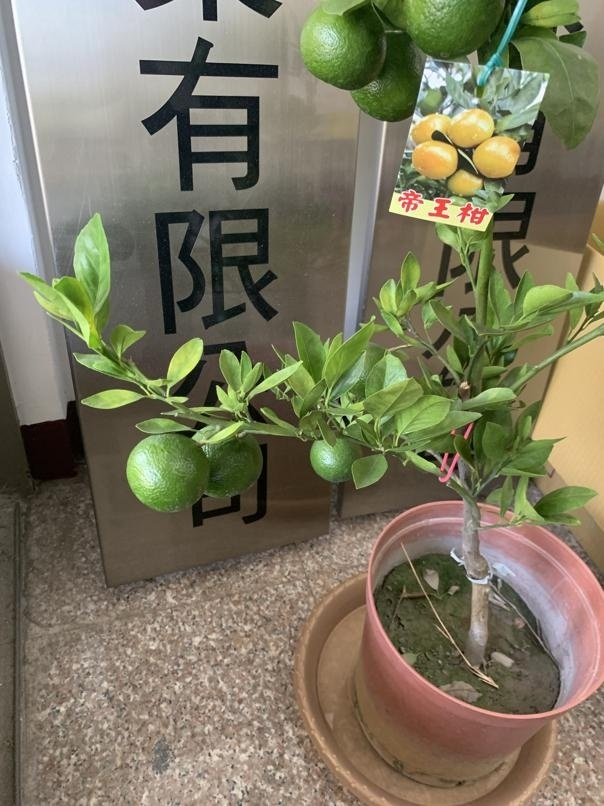Tangerine: (300, 0, 386, 92), (124, 427, 211, 511), (193, 421, 263, 499), (307, 432, 367, 484)
